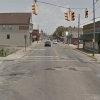Traffic light: (29, 0, 86, 28)
